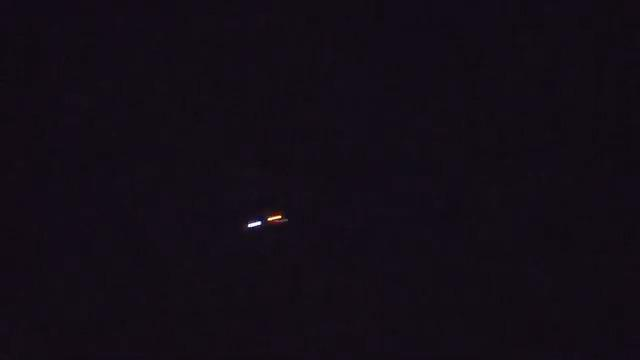Plane: (226, 206, 307, 236)
